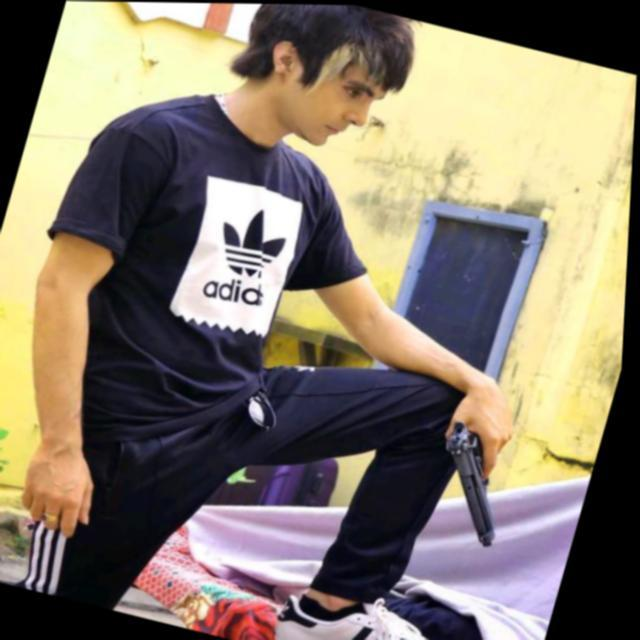weapon: (416, 402, 542, 553)
